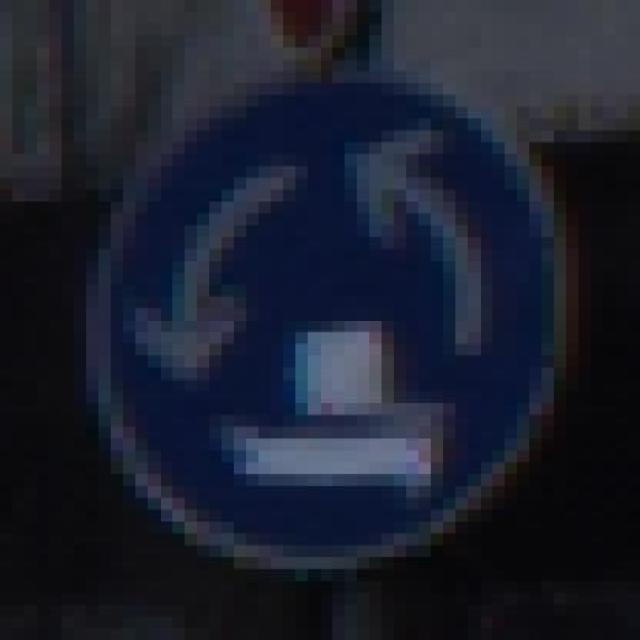Round-About: (62, 47, 590, 593)
